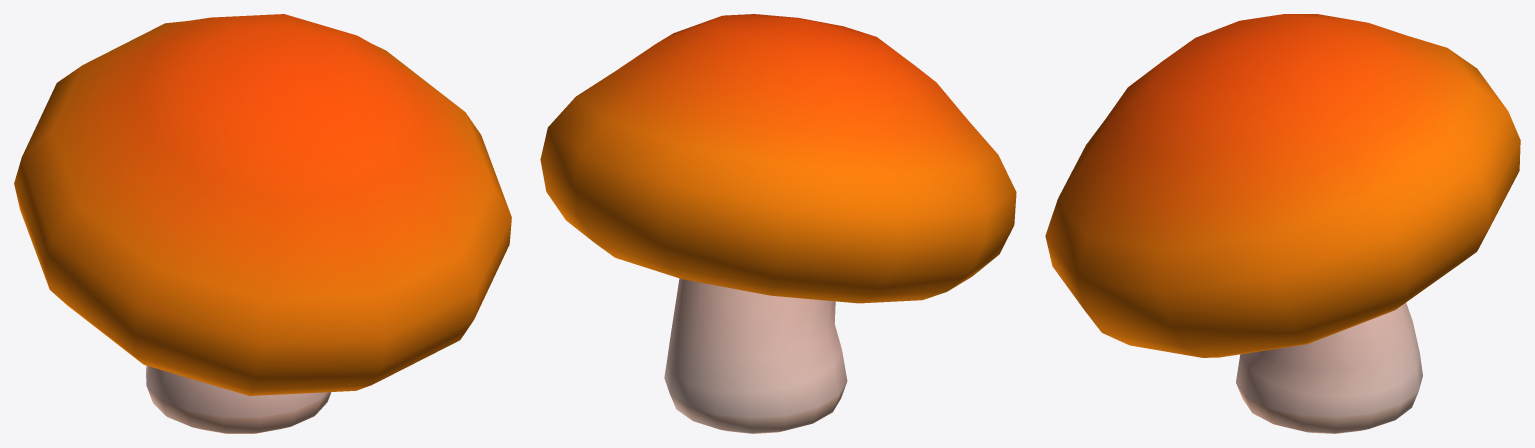
File: Mashroom_V1_01.fbx
3 renders of one model, left to right at view 1: azimuth 30°, elevation 25°; view 2: azimuth 150°, elevation 25°; view 3: azimuth 270°, elevation 25°, orthographic. The views are drawn at different scales.
Parts seen in each view (by area): view 1: Mashroom_V1_01; view 2: Mashroom_V1_01; view 3: Mashroom_V1_01.
Part boxes in pixels (<box>): Mashroom_V1_01: <box>14,14,511,433</box>; Mashroom_V1_01: <box>540,14,1016,433</box>; Mashroom_V1_01: <box>1045,14,1520,433</box>.
Bounding box in the file's own units: 36.75 × 30.66 × 35.76.
